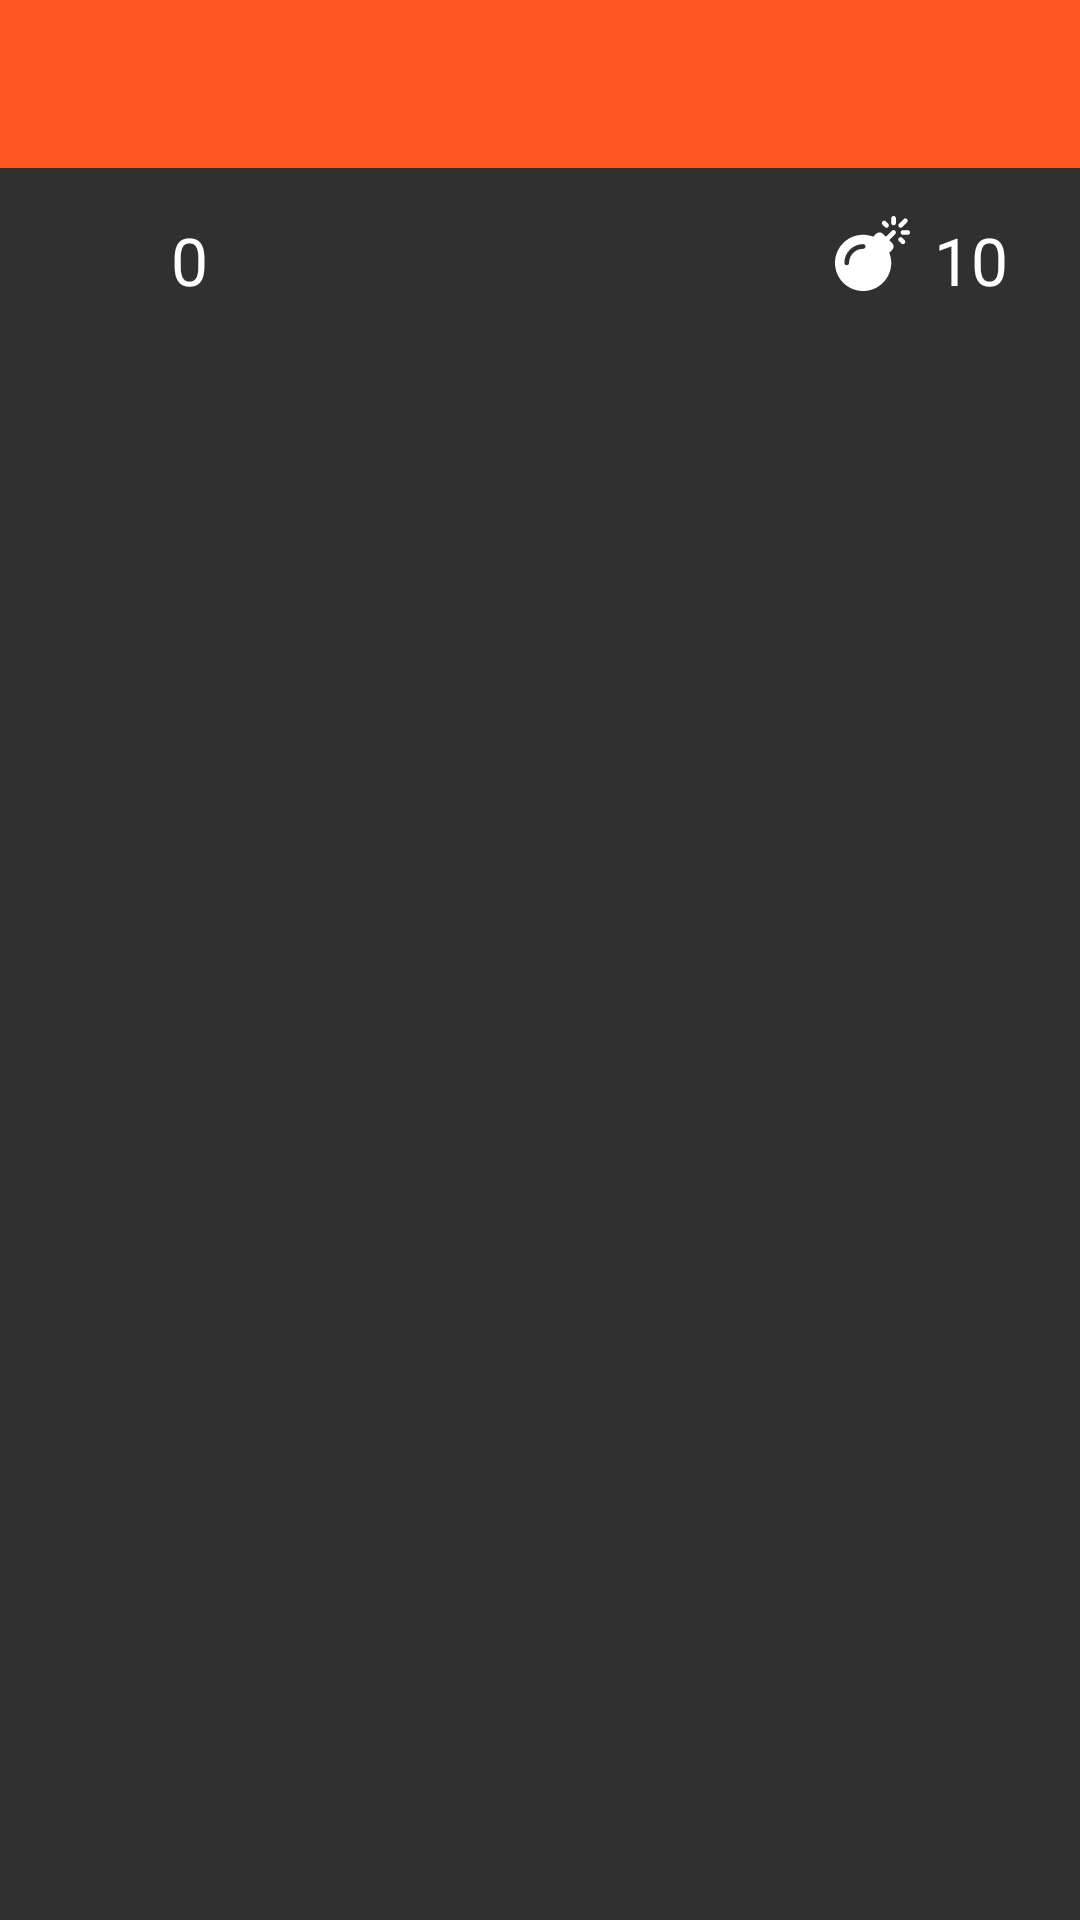

Icons on this 1080x1920 Android screen, each with the point to tap as [x,y]:
bomb: [872,253]
